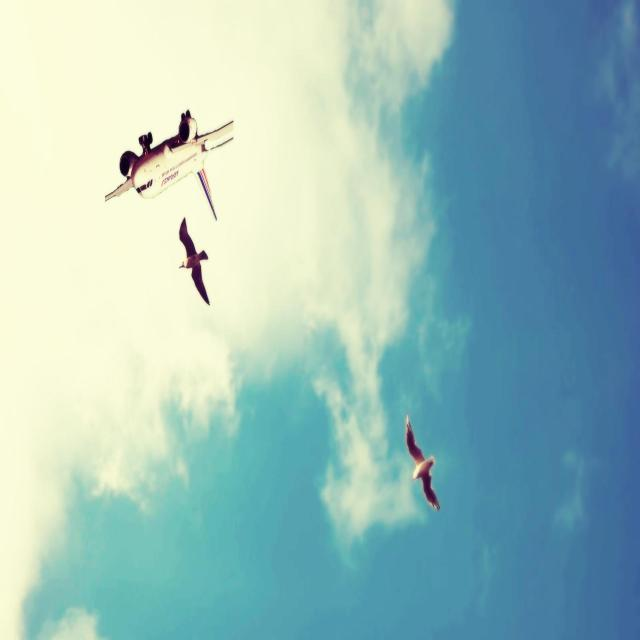airplane: (104, 108, 234, 220)
